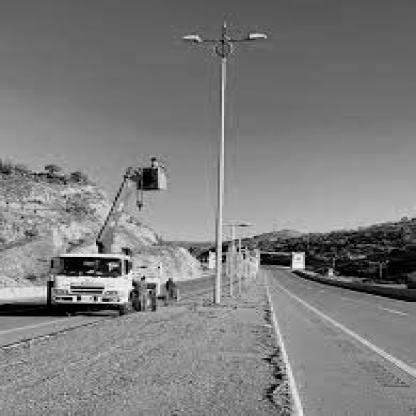light_pole: (184, 31, 267, 301)
